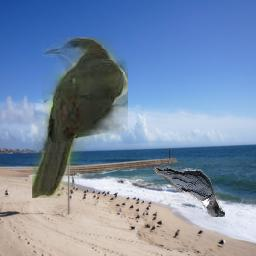Crow: (155, 167, 226, 218)
Cuckoo: (32, 38, 128, 199)
